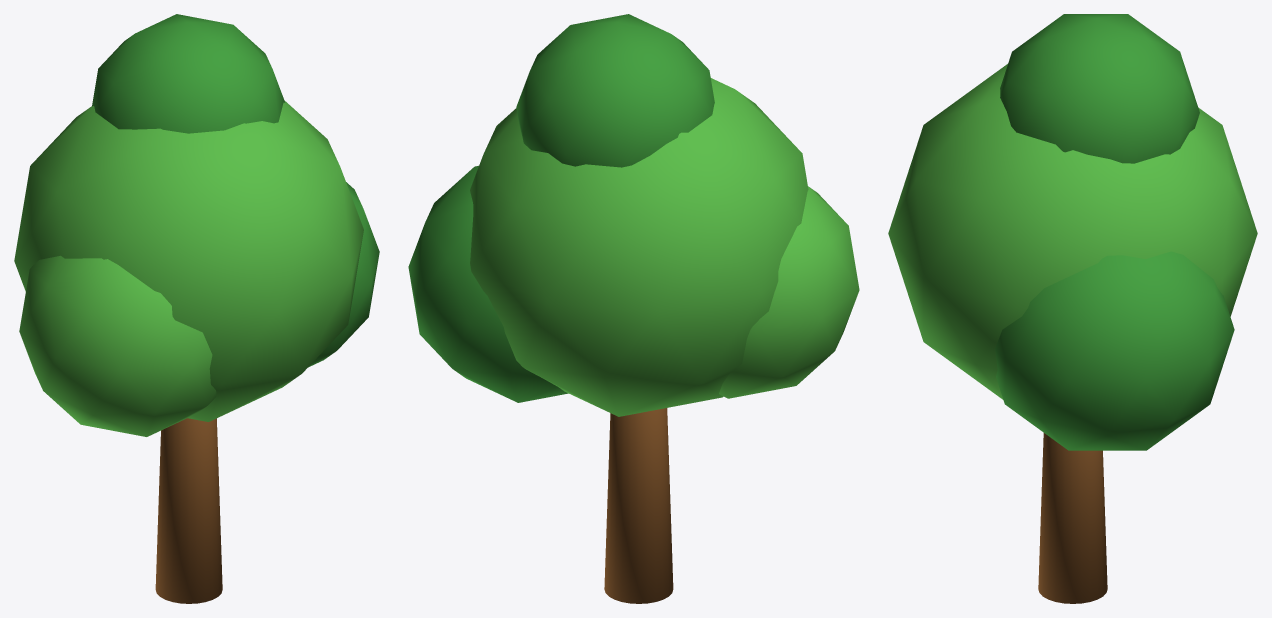
File: tree_mobile.glb
The picture shows the model from 3 angles, left to right: view 1: azimuth 30°, elevation 25°; view 2: azimuth 150°, elevation 25°; view 3: azimuth 270°, elevation 25°; orthographic projection. The views are drawn at different scales.
Parts seen in each view (by area): view 1: Tree; view 2: Tree; view 3: Tree.
Part boxes in pixels (x1,y1,x2,y2): Tree: (14, 14, 379, 603); Tree: (408, 14, 859, 603); Tree: (888, 14, 1257, 603).
Bounding box in the file's own units: 3.74 × 5.5 × 3.2.
